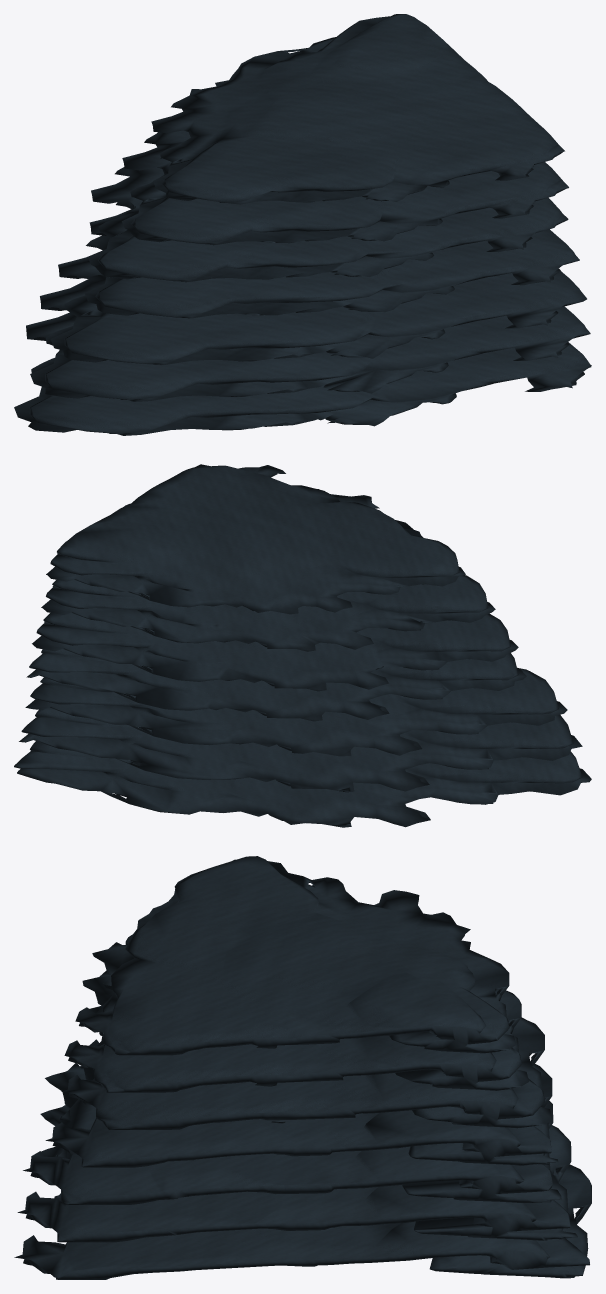
File: slate-v1-worked-lod0.gltf
The picture shows the model from 3 angles, top to bottom: view 1: azimuth 30°, elevation 25°; view 2: azimuth 150°, elevation 25°; view 3: azimuth 270°, elevation 25°; orthographic projection. The views are drawn at different scales.
Visible parts, largest first — view 1: slate-v1-worked-lod0; view 2: slate-v1-worked-lod0; view 3: slate-v1-worked-lod0.
Part boxes in pixels (bbox=[...]): slate-v1-worked-lod0: bbox=[14, 14, 591, 435]; slate-v1-worked-lod0: bbox=[14, 464, 591, 827]; slate-v1-worked-lod0: bbox=[14, 856, 591, 1279].
Size of the model in its own units: 1.21 by 0.5294 by 1.09.
1 material, 1 textured.
